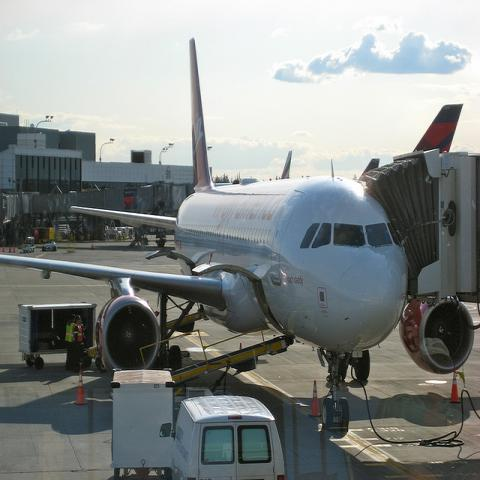truck: (173, 393, 286, 479), (112, 367, 176, 479)
